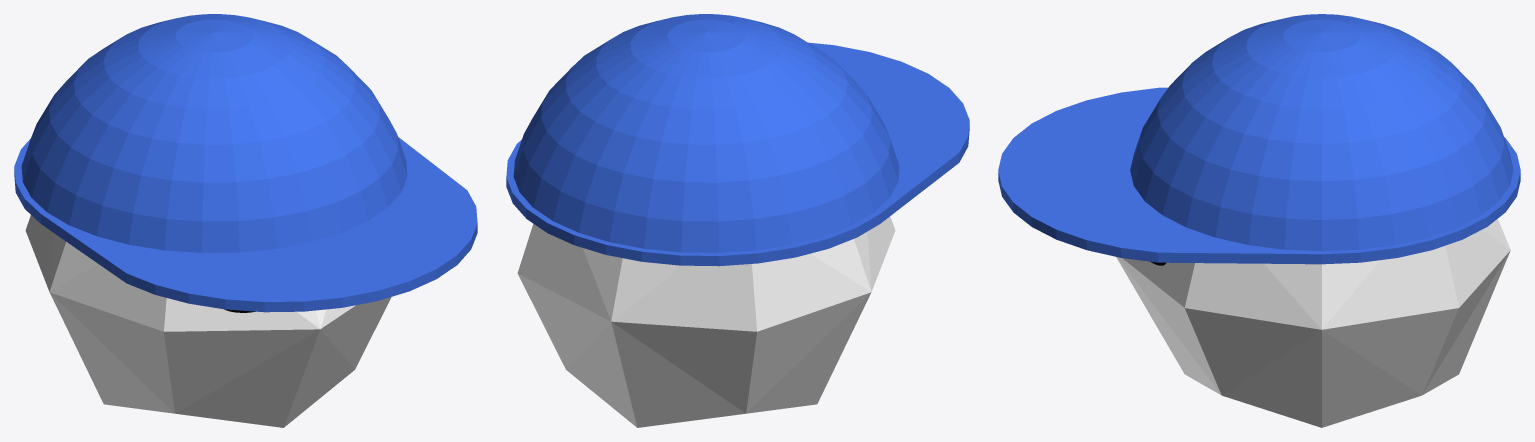
The model's file is CapPlayer.obj.
3 renders of one model, left to right at view 1: azimuth 30°, elevation 25°; view 2: azimuth 150°, elevation 25°; view 3: azimuth 270°, elevation 25°, orthographic.
Visible parts, largest first — view 1: 立方体; view 2: 立方体; view 3: 立方体.
Boxes of the visible parts, x1,y1,x2,y2 form: 立方体: (14,14,477,427); 立方体: (506,14,969,427); 立方体: (998,14,1520,427).
Bounding box in the file's own units: 1.08 × 1.11 × 1.42.
1 material, 1 textured.
